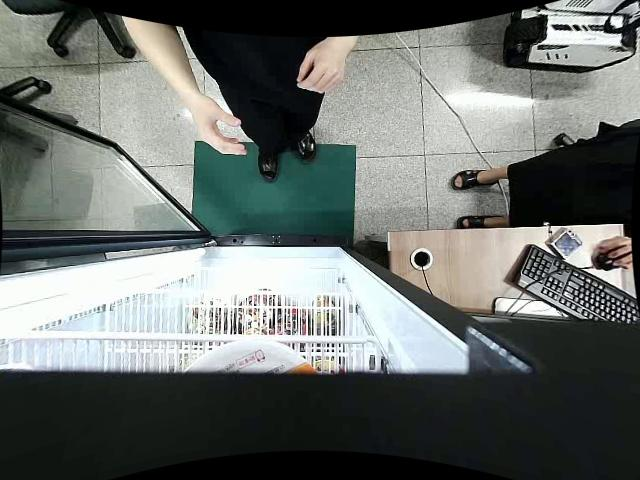00_hand: (191, 93, 249, 155), (295, 43, 347, 94)
